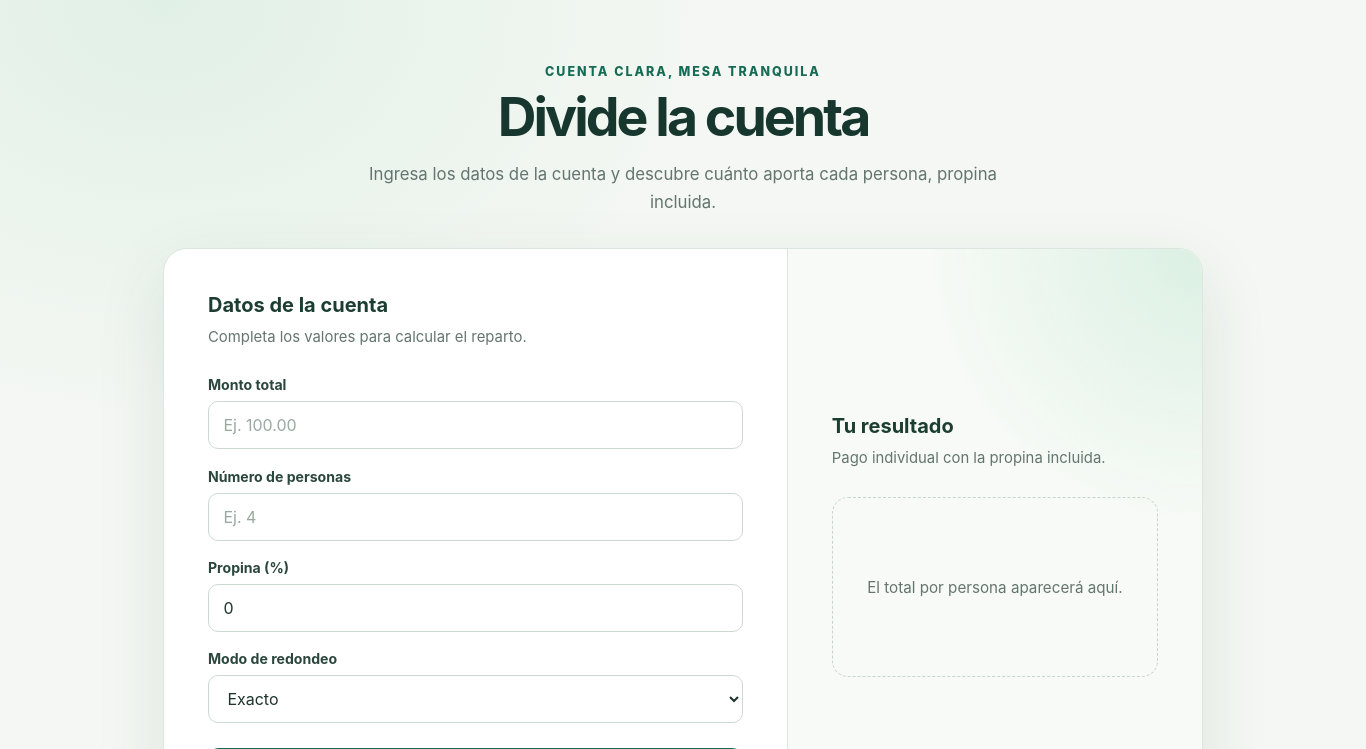
Test case: pantalla del divisor › muestra 27.50 al calcular 100 entre 4 con 10% de propina
Type "100" into the field labelled "Monto total".
click(475, 425); type("100")  # box left=208, top=401, right=743, bottom=449
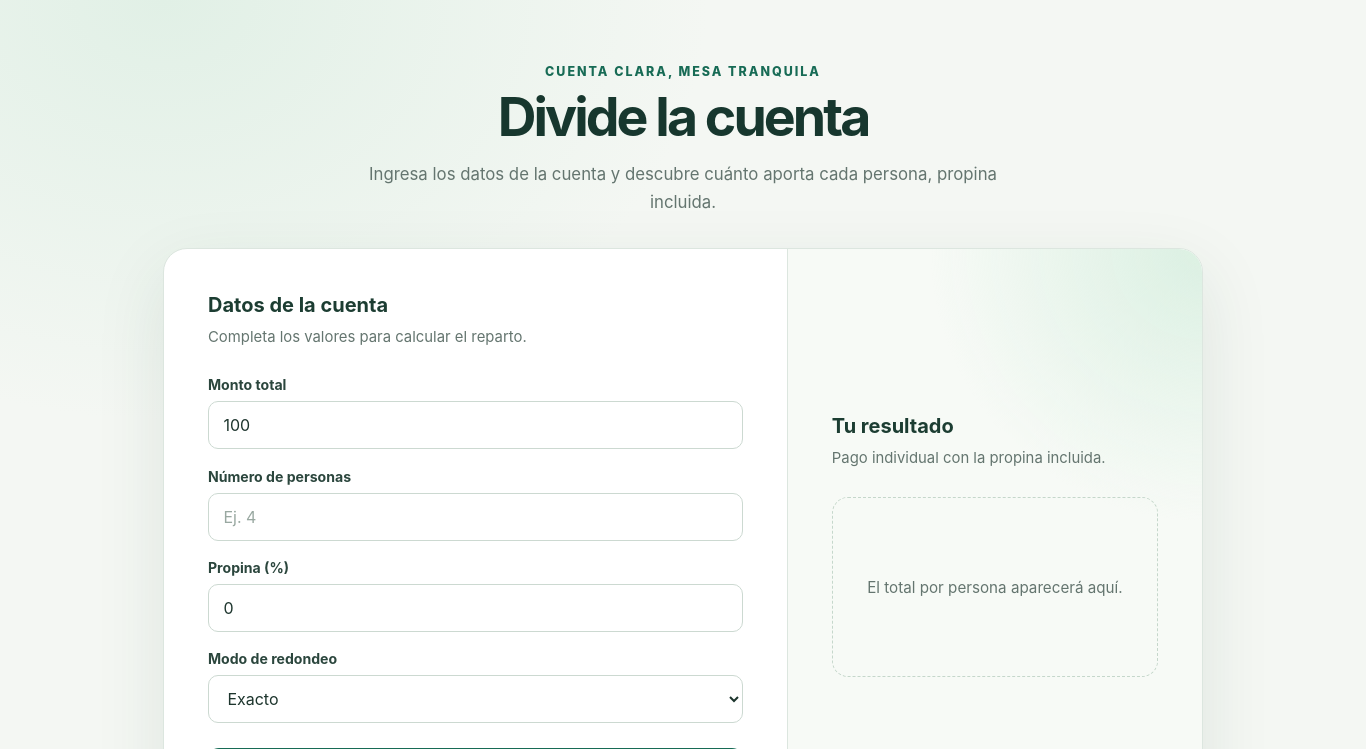
Type "4" into the field labelled "Número de personas".
click(475, 517); type("4")  # box left=208, top=493, right=743, bottom=541
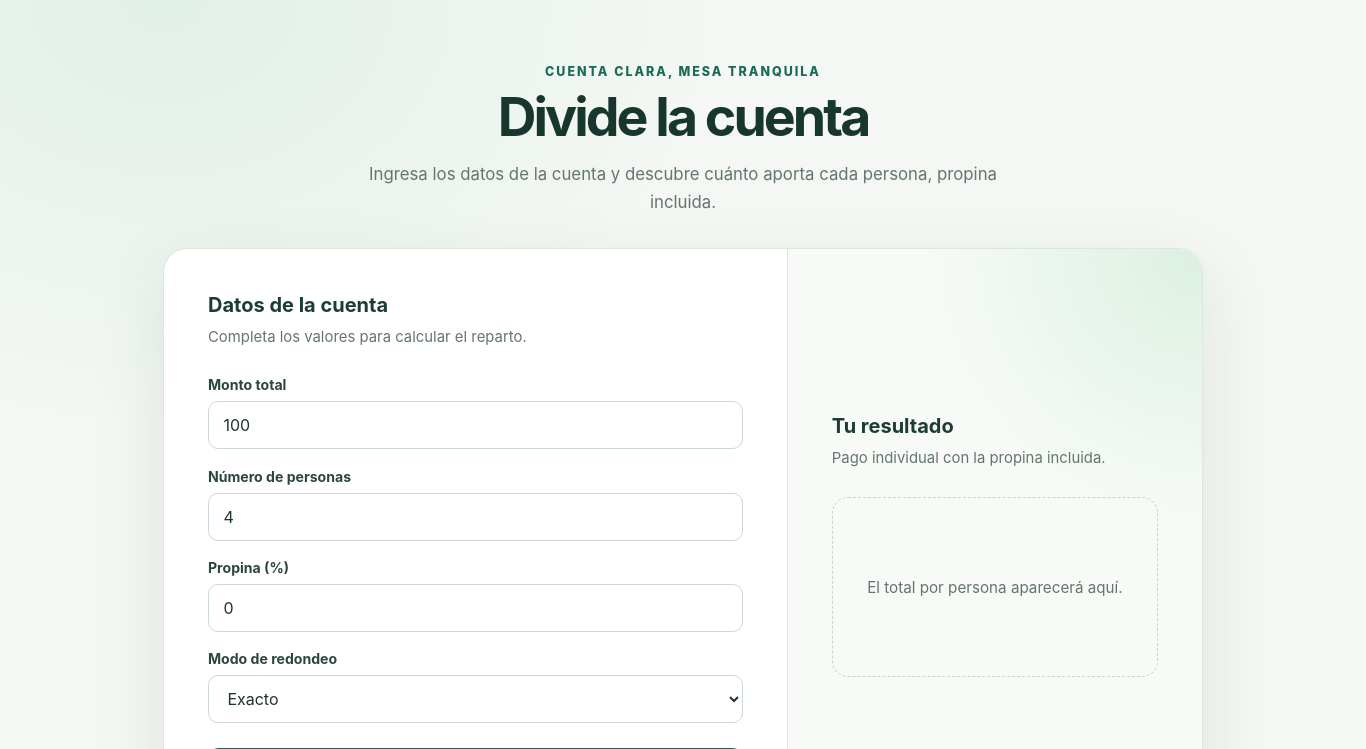
Replace the text in the field labelled "Propina (%)" with "10" at (475, 608), box left=208, top=584, right=743, bottom=632
(page scrolled)
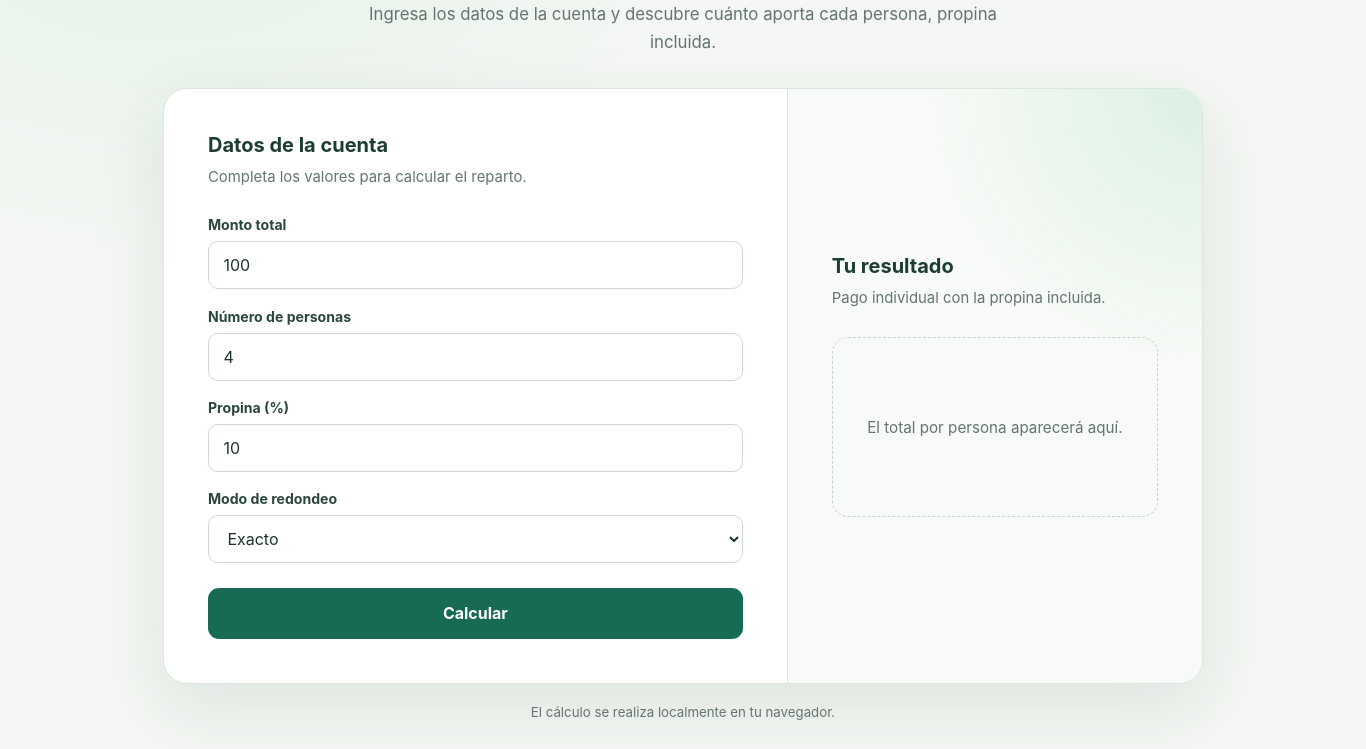
Click the button "Calcular".
click(475, 614)  # box left=208, top=588, right=743, bottom=639
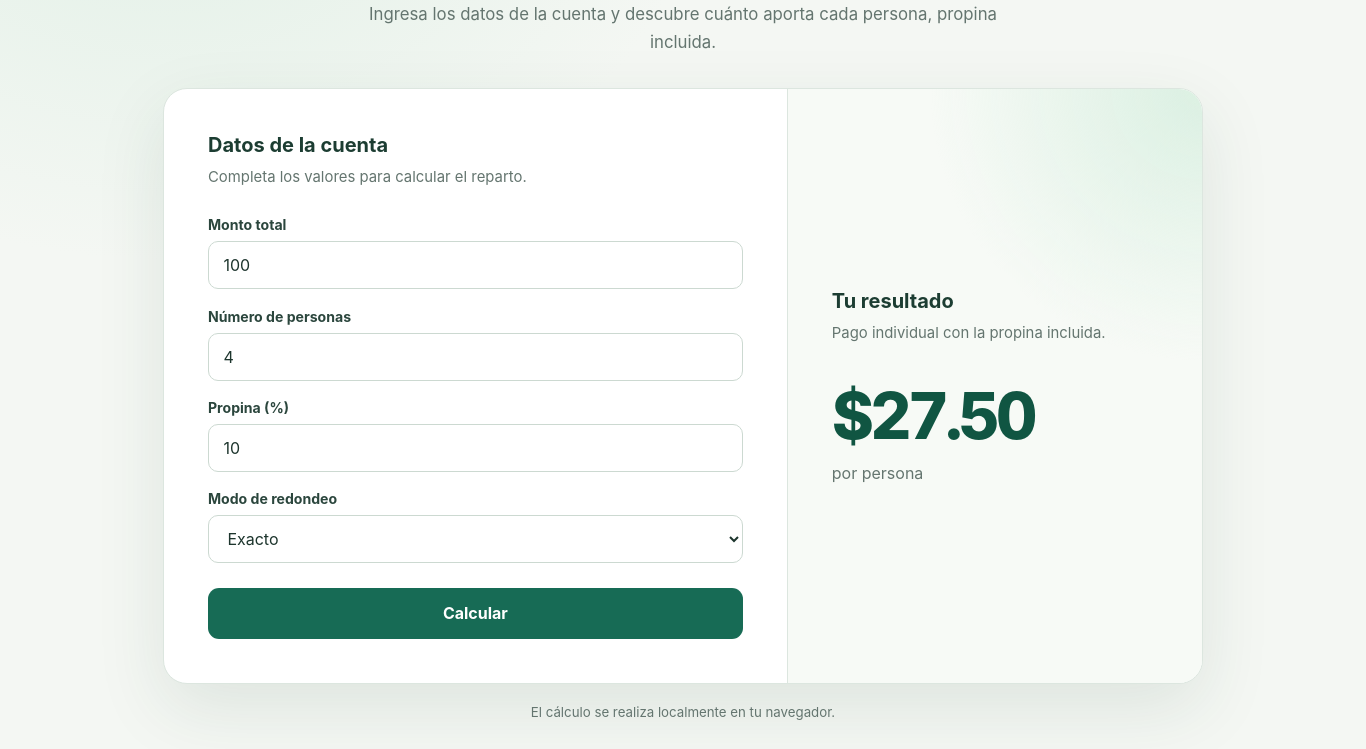
Now the text with test id "resultado" reads "$27.50", box left=832, top=378, right=1034, bottom=454
